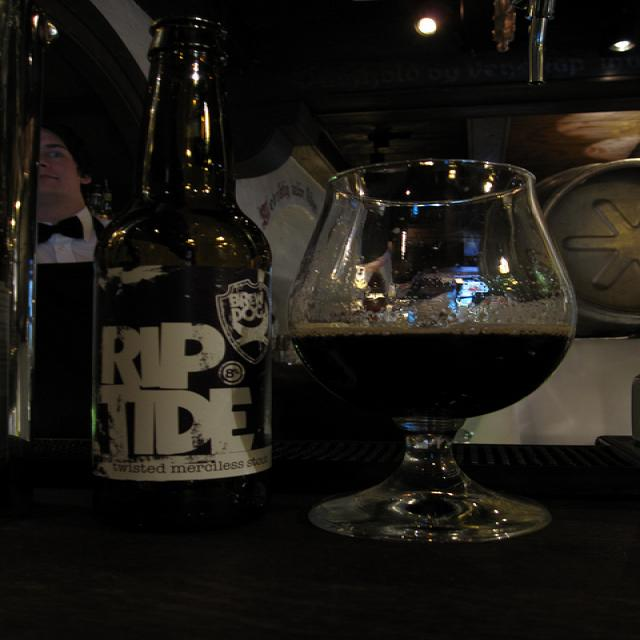Bottle: (97, 14, 302, 525)
Cup: (285, 139, 582, 552)
People: (29, 124, 102, 265)
